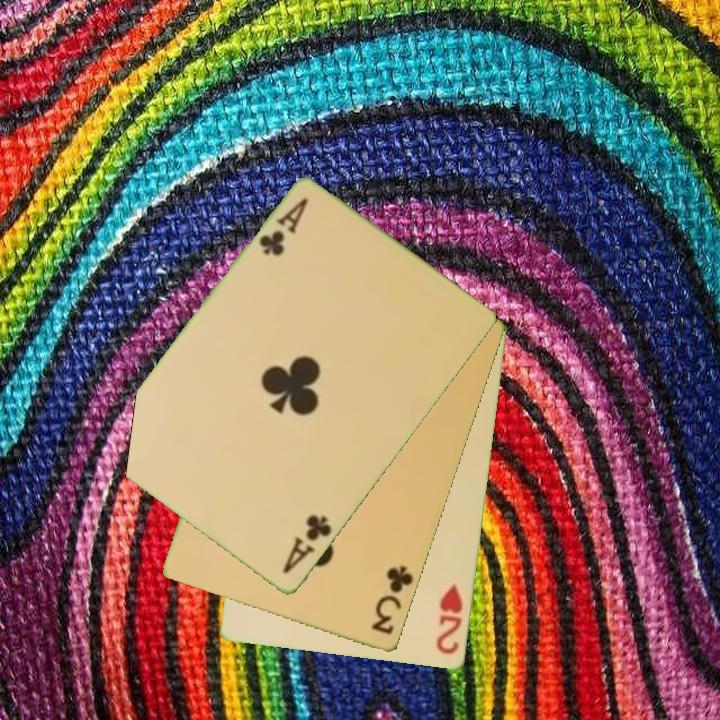2h: (433, 580, 466, 658)
3c: (368, 562, 417, 638)
Ac: (255, 195, 312, 260), (279, 511, 335, 577)
